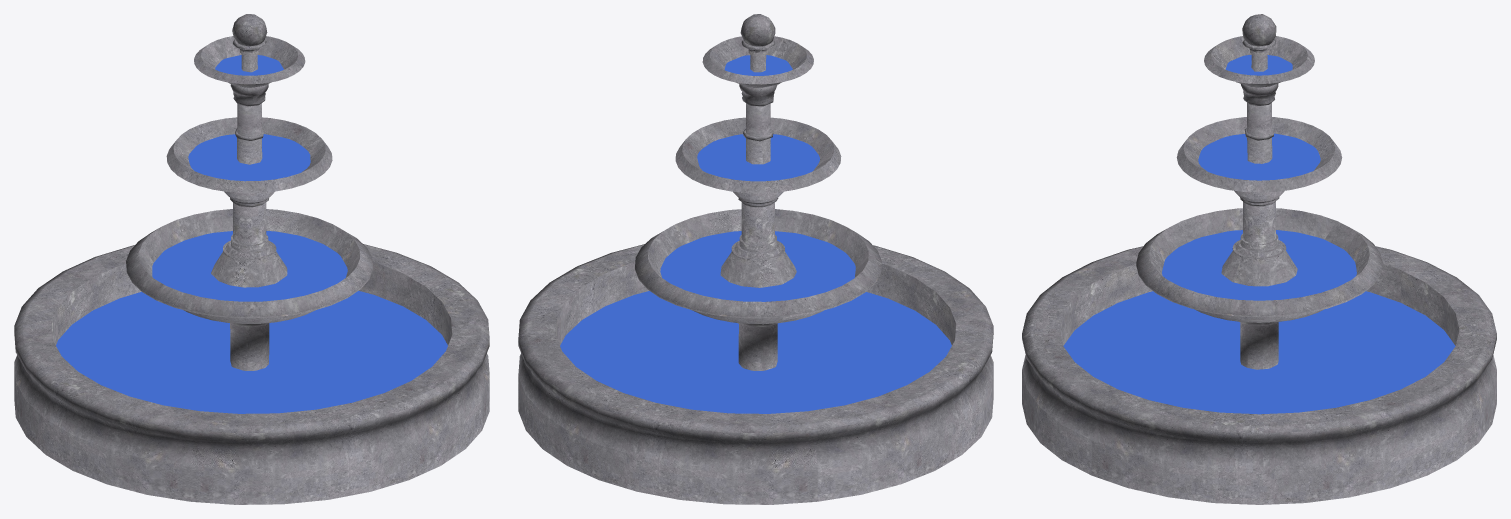
The model's file is fountain.glb.
3 renders of one model, left to right at view 1: azimuth 30°, elevation 25°; view 2: azimuth 150°, elevation 25°; view 3: azimuth 270°, elevation 25°, orthographic.
Parts seen in each view (by area): view 1: FountainRoundLowPoly; view 2: FountainRoundLowPoly; view 3: FountainRoundLowPoly.
Boxes of the visible parts, box(x1,y1,x2,y2) form: FountainRoundLowPoly: box(14, 14, 489, 504); FountainRoundLowPoly: box(518, 14, 993, 504); FountainRoundLowPoly: box(1022, 14, 1496, 504).
Bounding box in the file's own units: 4.42 × 3.98 × 4.42.
2 materials, 1 textured.
